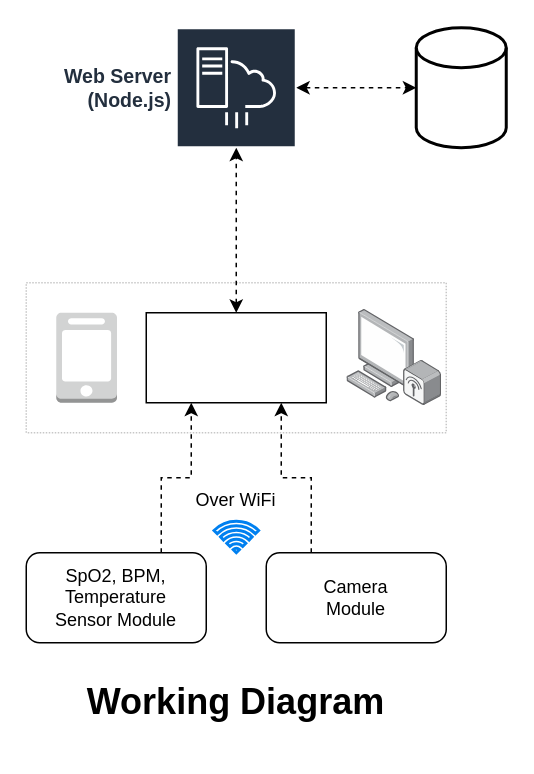
The diagram is 534 pixels wide and 774 high, and some of its shapes have lost their labels. The shapes that lost their labels are listed below. From the top down, each one's centre as x and y in pixels, then its label:
[460,87]: Database (NoSQL)
[235,357]: Web Application (Browser)
